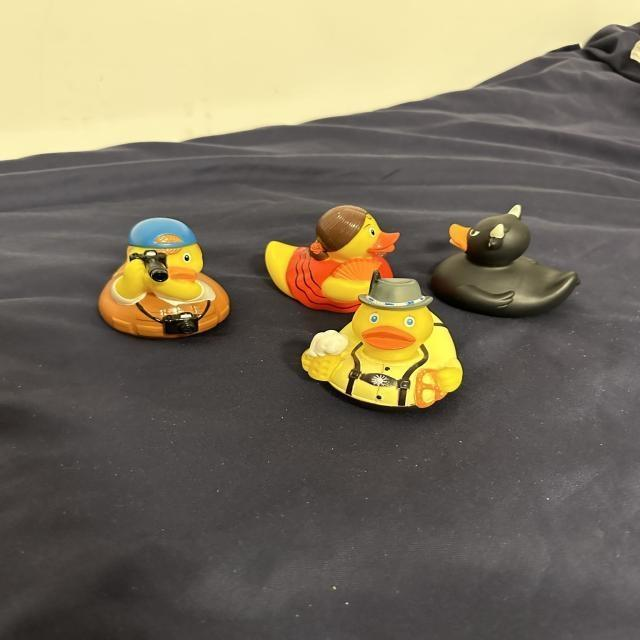rubber-duck: (430, 203, 577, 314), (306, 303, 460, 406), (98, 216, 228, 336), (264, 204, 397, 311)
